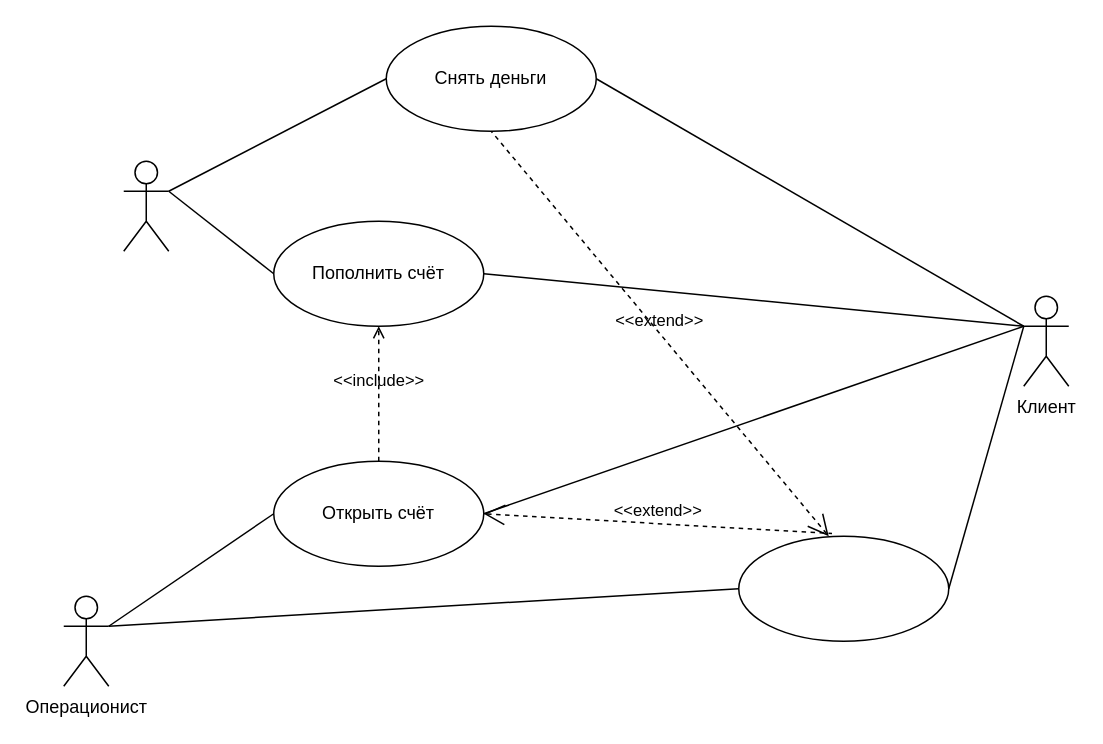
This 1103x744 diagram has some shape labels left out. The shapes that lost their labels are listed below. From the top down, each one's box as (x1, y1, x2, y2) in pixels, then its label:
(122, 160, 169, 251): Кассир
(737, 535, 949, 641): Закрыть счёт
